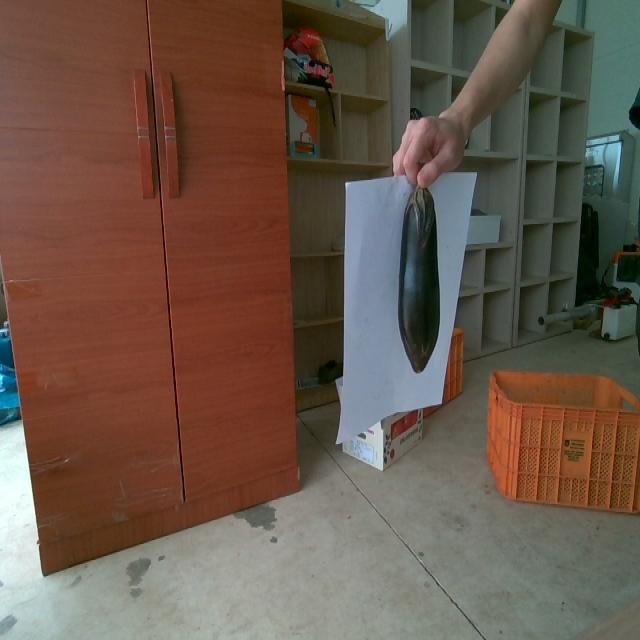Egg plant: (398, 187, 439, 372)
